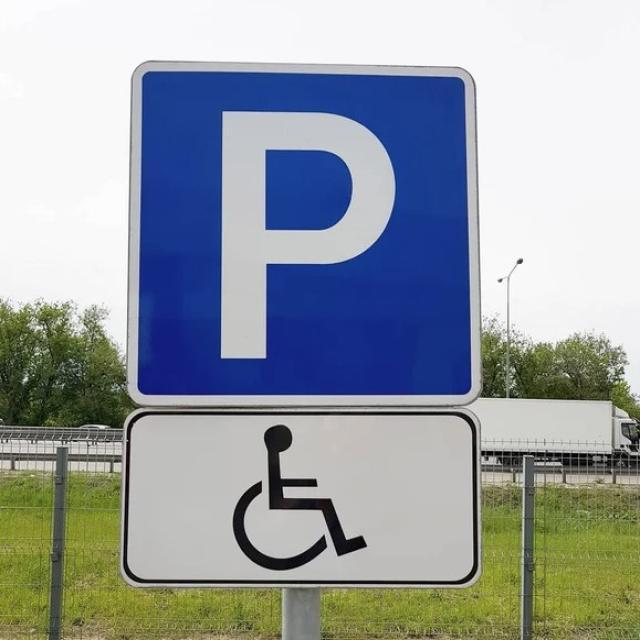symbol_of_access: (118, 405, 483, 591)
